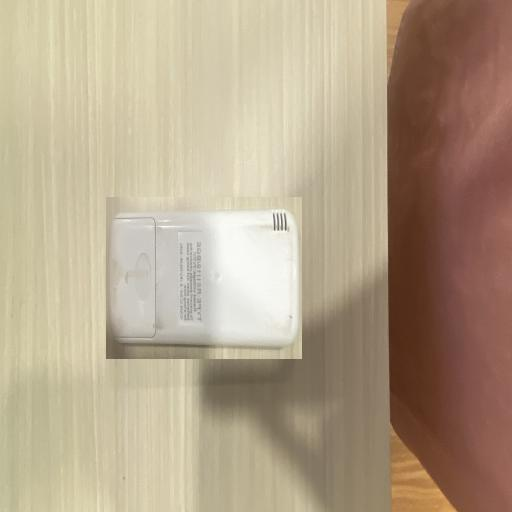remote AC: (106, 197, 302, 359)
